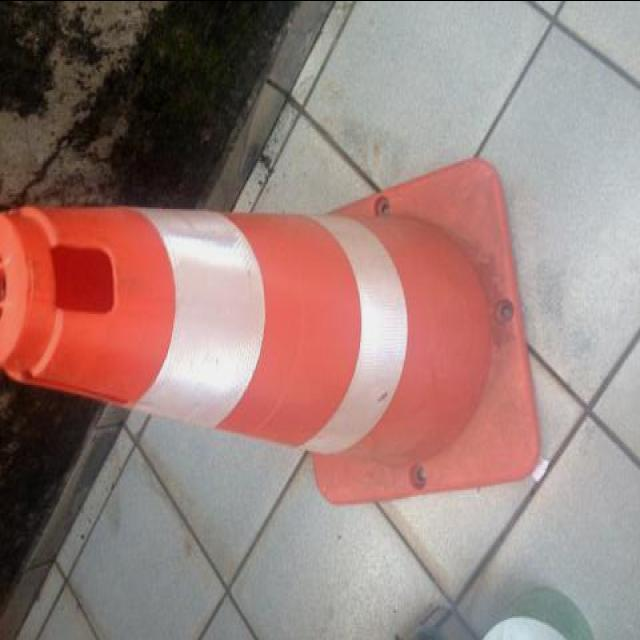traffic cone: (0, 158, 544, 508)
